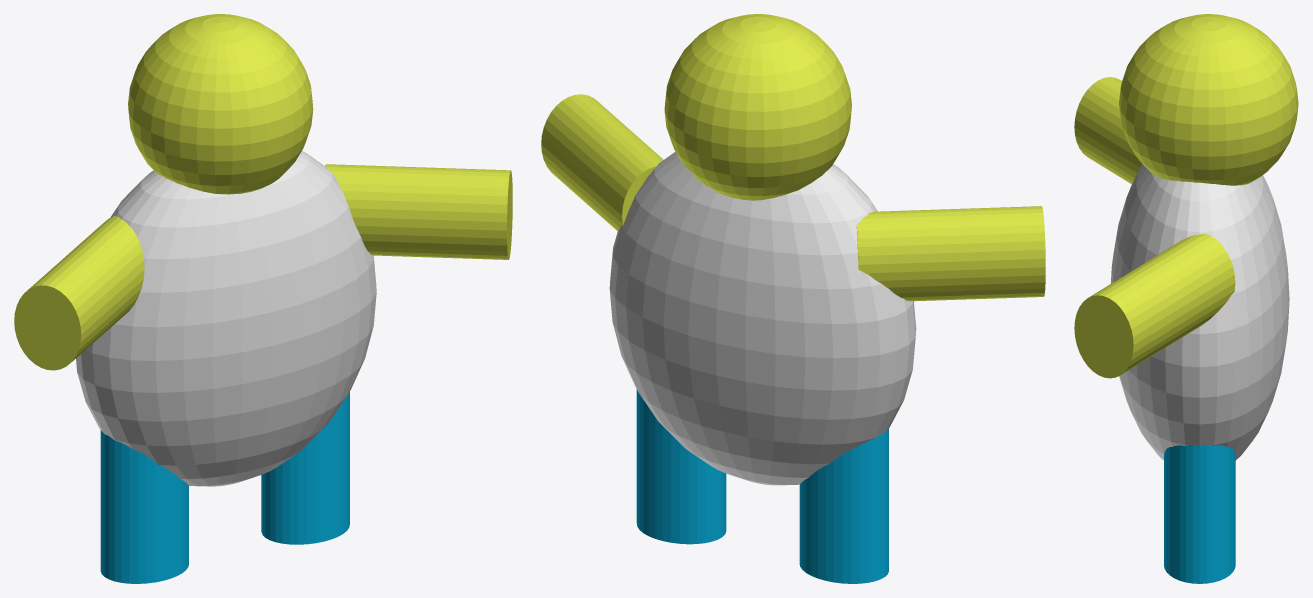
The model's file is ChubbyAlien.fbx.
3 renders of one model, left to right at view 1: azimuth 30°, elevation 25°; view 2: azimuth 150°, elevation 25°; view 3: azimuth 270°, elevation 25°, orthographic. The views are drawn at different scales.
Parts seen in each view (by area): view 1: Sphere.001, Sphere, Cylinder.002, Cylinder.003, Cylinder.001, Cylinder; view 2: Sphere.001, Sphere, Cylinder.003, Cylinder.001, Cylinder.002, Cylinder; view 3: Sphere.001, Sphere, Cylinder.002, Cylinder, Cylinder.003.
Part boxes in pixels (box(x1,y1,x2,y2)): Sphere.001: box(76, 151, 376, 486); Sphere: box(128, 14, 313, 194); Cylinder.002: box(325, 164, 512, 259); Cylinder.003: box(14, 215, 144, 370); Cylinder.001: box(100, 430, 188, 583); Cylinder: box(261, 392, 349, 544); Sphere.001: box(609, 152, 916, 485); Sphere: box(664, 14, 851, 200); Cylinder.003: box(856, 206, 1045, 301); Cylinder.001: box(799, 428, 888, 583); Cylinder.002: box(541, 94, 663, 230); Cylinder: box(636, 389, 726, 544); Sphere.001: box(1110, 164, 1289, 460); Sphere: box(1119, 14, 1298, 185); Cylinder.002: box(1074, 233, 1235, 378); Cylinder: box(1164, 445, 1235, 583); Cylinder.003: box(1074, 77, 1142, 184).
Size of the model in its own units: 620 by 620 by 250.
